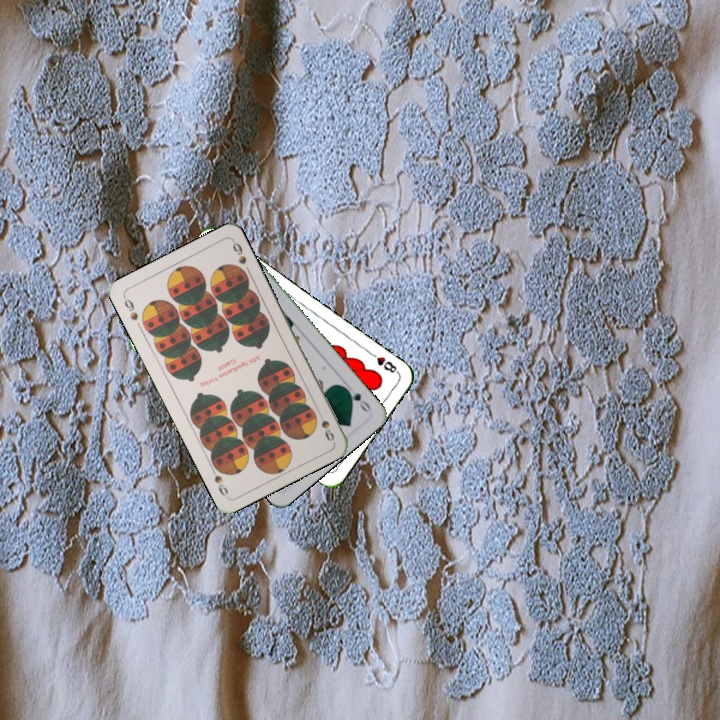GO: (340, 382, 373, 415)
H8: (365, 348, 401, 376)
S9: (313, 405, 337, 444), (120, 293, 141, 323)
